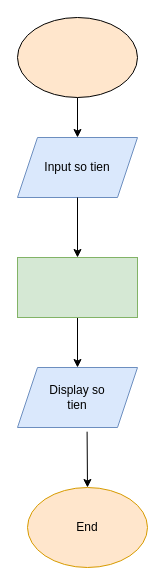
Some shapes in this 165 by 585 pixel diagram are drawn without their labels. Here are the shapes that lost their labels. From the top down, the box of each, then its label:
(16, 16, 138, 98): Begin
(16, 256, 138, 318): tien viet = dola * 23 000
